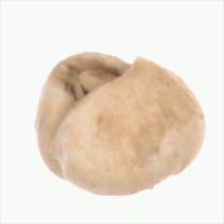L3: (60, 51, 140, 114)
L4: (36, 52, 207, 196)
